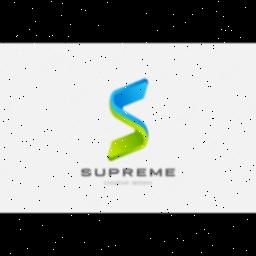e: (136, 167, 148, 177)
m: (150, 168, 162, 178)
p: (108, 168, 120, 178)
r: (122, 168, 134, 178)
s: (80, 168, 92, 178)
u: (94, 168, 106, 178)
